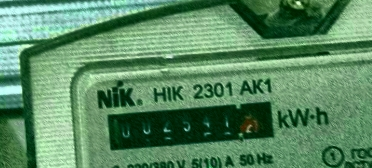0: (118, 116, 132, 138), (138, 113, 152, 135)
1: (219, 105, 232, 129)
2: (158, 110, 174, 133)
4: (199, 106, 212, 128)
5: (178, 109, 193, 133)
6: (242, 119, 254, 132)
screen: (94, 89, 286, 157)
